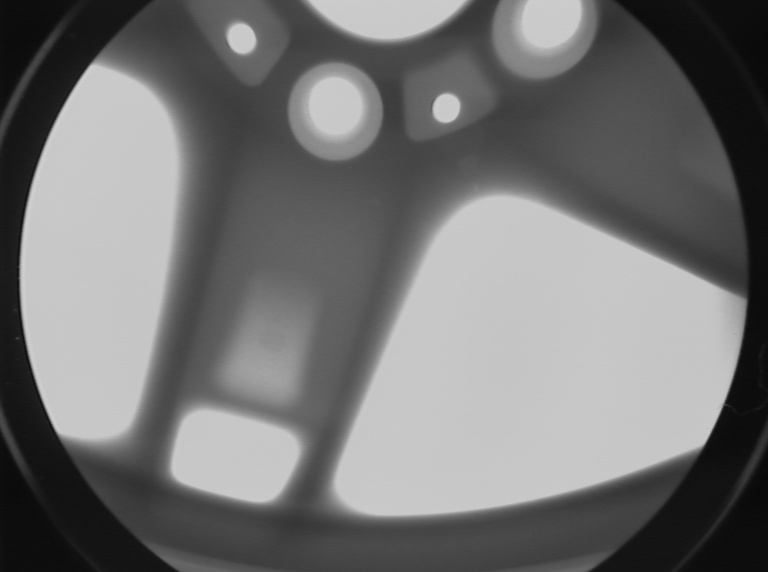defect: (366, 190, 387, 209)
